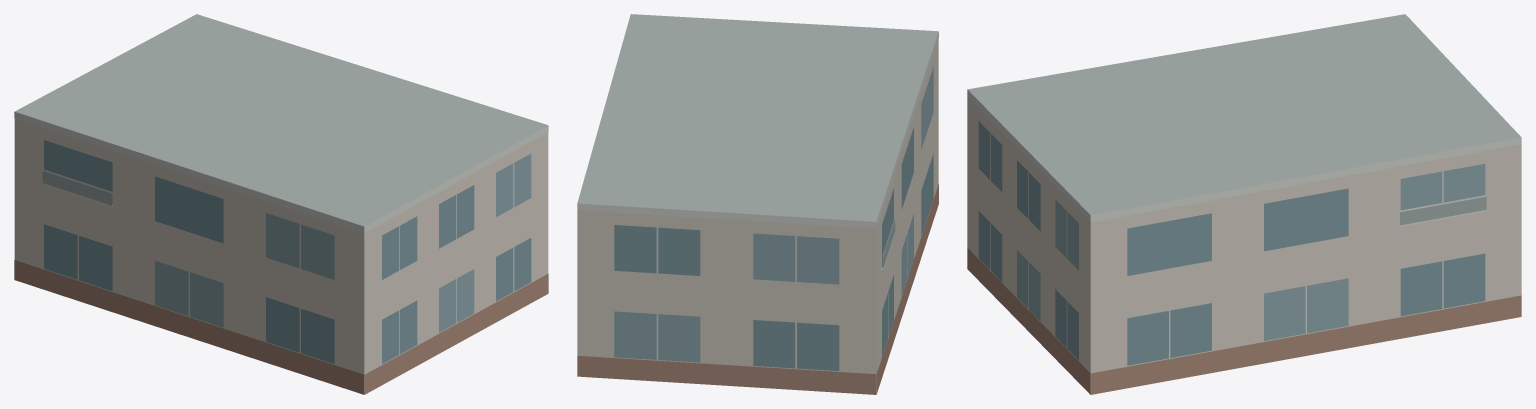
The model's file is survey-upis-32732450.glb.
3 renders of one model, left to right at view 1: azimuth 30°, elevation 25°; view 2: azimuth 150°, elevation 25°; view 3: azimuth 270°, elevation 25°, orthographic. The views are drawn at different scales.
Parts seen in each view (by area): view 1: survey-upis-32732450.tmp; view 2: survey-upis-32732450.tmp; view 3: survey-upis-32732450.tmp.
Boxes of the visible parts, x1,y1,x2,y2 form: survey-upis-32732450.tmp: (14,14,548,394); survey-upis-32732450.tmp: (577,14,938,394); survey-upis-32732450.tmp: (967,14,1521,394).
Bounding box in the file's own units: 14.67 × 6.1 × 17.07.
